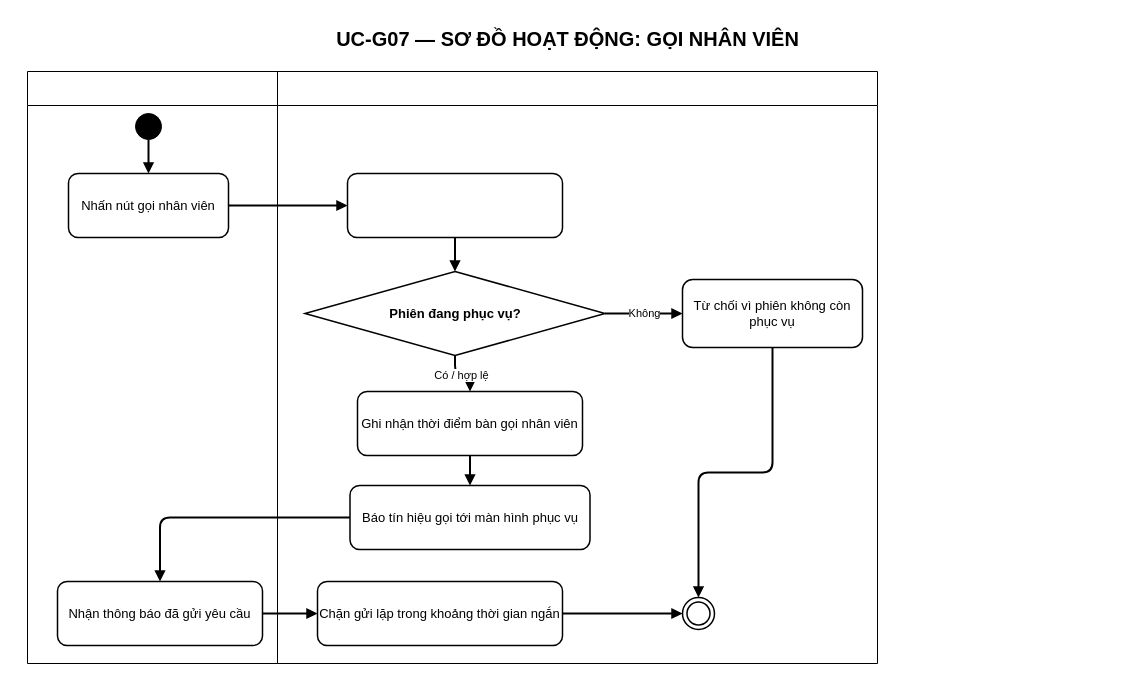
The diagram is 1134 pixels wide and 681 high, and some of its shapes have lost their labels. Here are the shapes that lost their labels. From the top down, the box of each, then its label:
(346, 172, 563, 238): Kiểm tra quyền truy cập và tìm phiên của bàn
(26, 70, 328, 664): Tác nhân: Khách
(276, 70, 878, 664): Hệ thống
